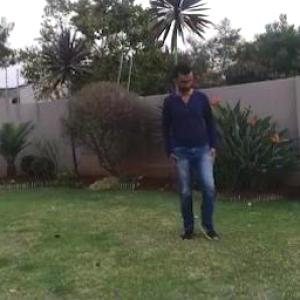follow: (164, 58, 222, 238)
